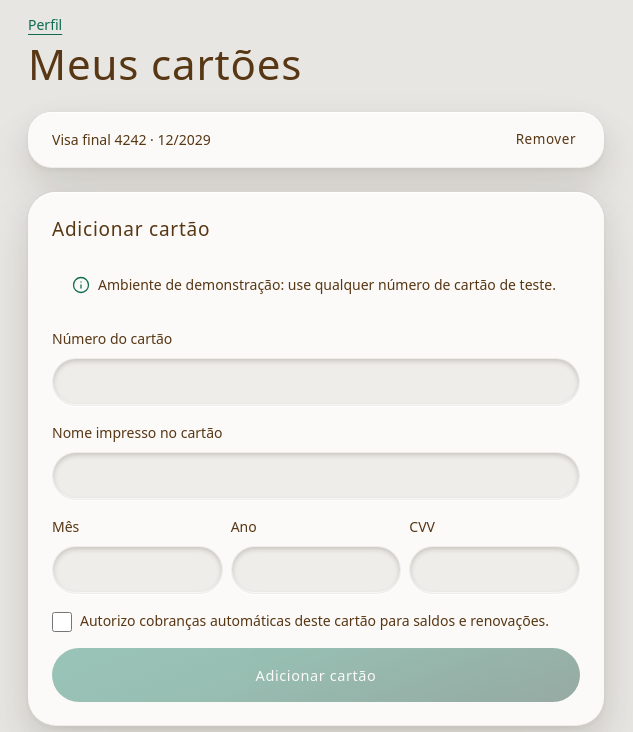
Test: CardsPage (NUC-194) › keeps "Adicionar cartão" disabled until the consent is checked
Expected: the text "Visa final 4242 · 12/2029" is shown, [52,129,211,151]
In the field labelled "Número do cartão": (316, 382) [52,358,580,406], type "4242424242424242"
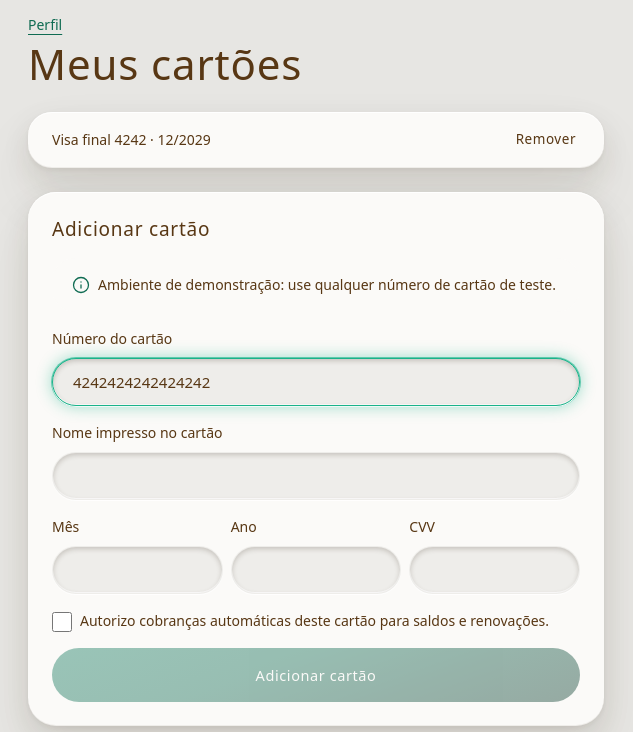
Expected: the button "Adicionar cartão" is disabled, [52,648,580,702]
Click the checkbox labelled "Autorizo cobranças automáticas deste cartão para saldos e renovações.": (62, 622) [52,612,72,632]
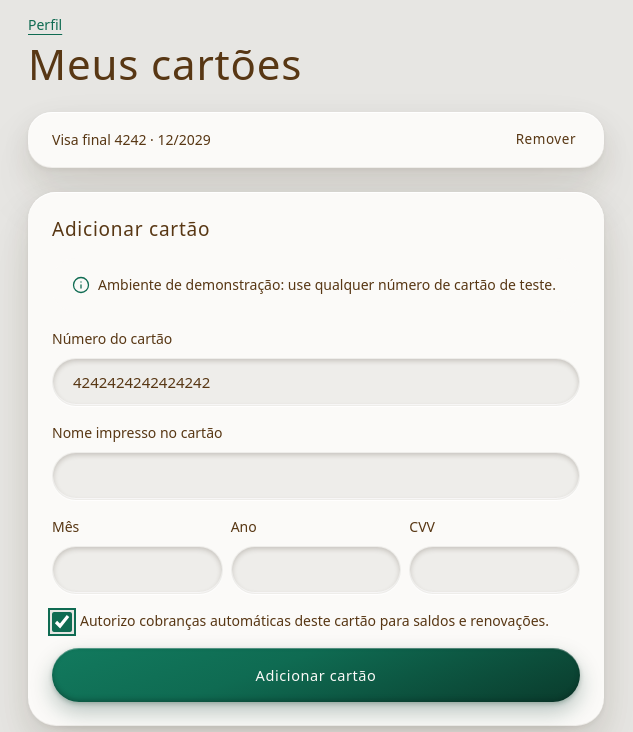
Expected: the button "Adicionar cartão" is enabled, [52,648,580,702]
